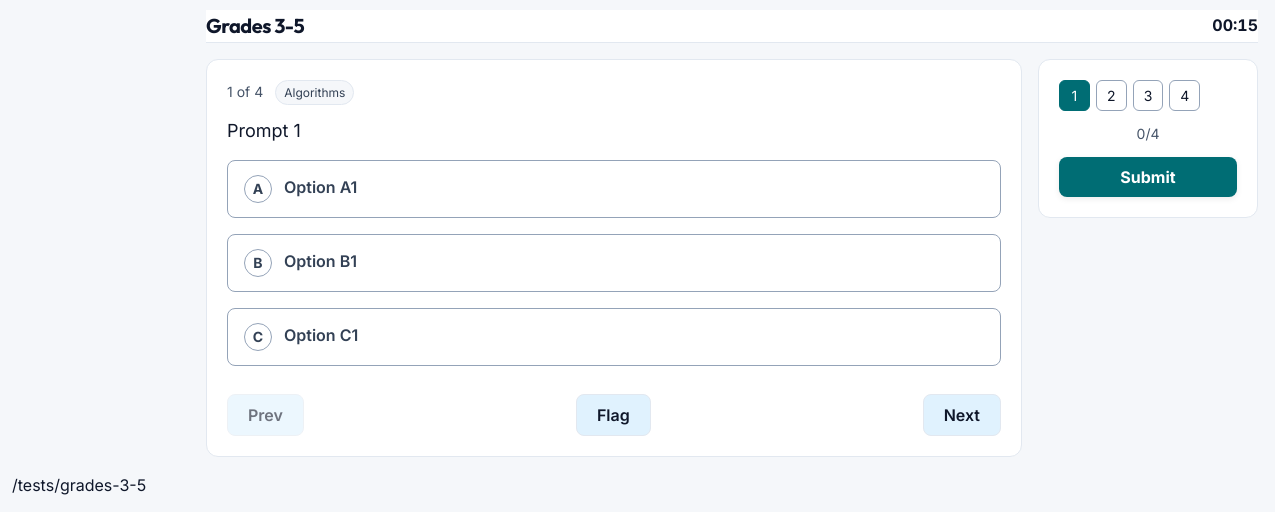
Scenario: TakeTest › autosave › shows the state of a queued save by its own quiet flag, not the first one
Expected: the text "Prompt 1" is shown, x1=227 y1=120 x2=301 y2=141
Click the radio button labelled "B Option B1" at (320, 261), box x1=227 y1=234 x2=1001 y2=292
Wait 900 ms
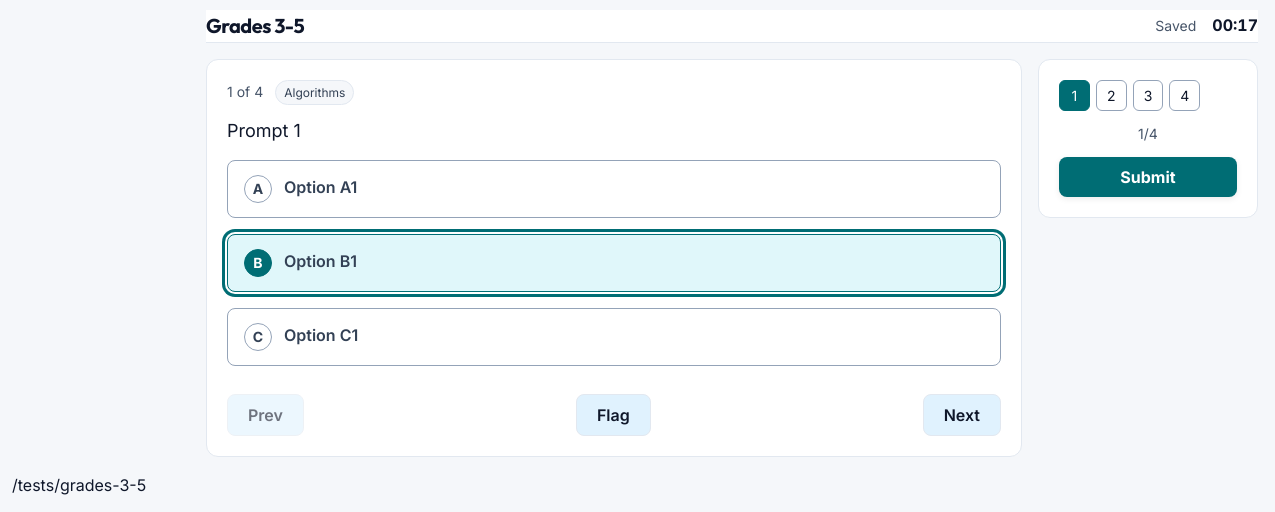
Expected: the message reads "Saved", x1=1155 y1=17 x2=1196 y2=34
